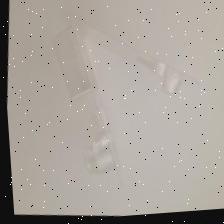plastic: (51, 16, 196, 194)
